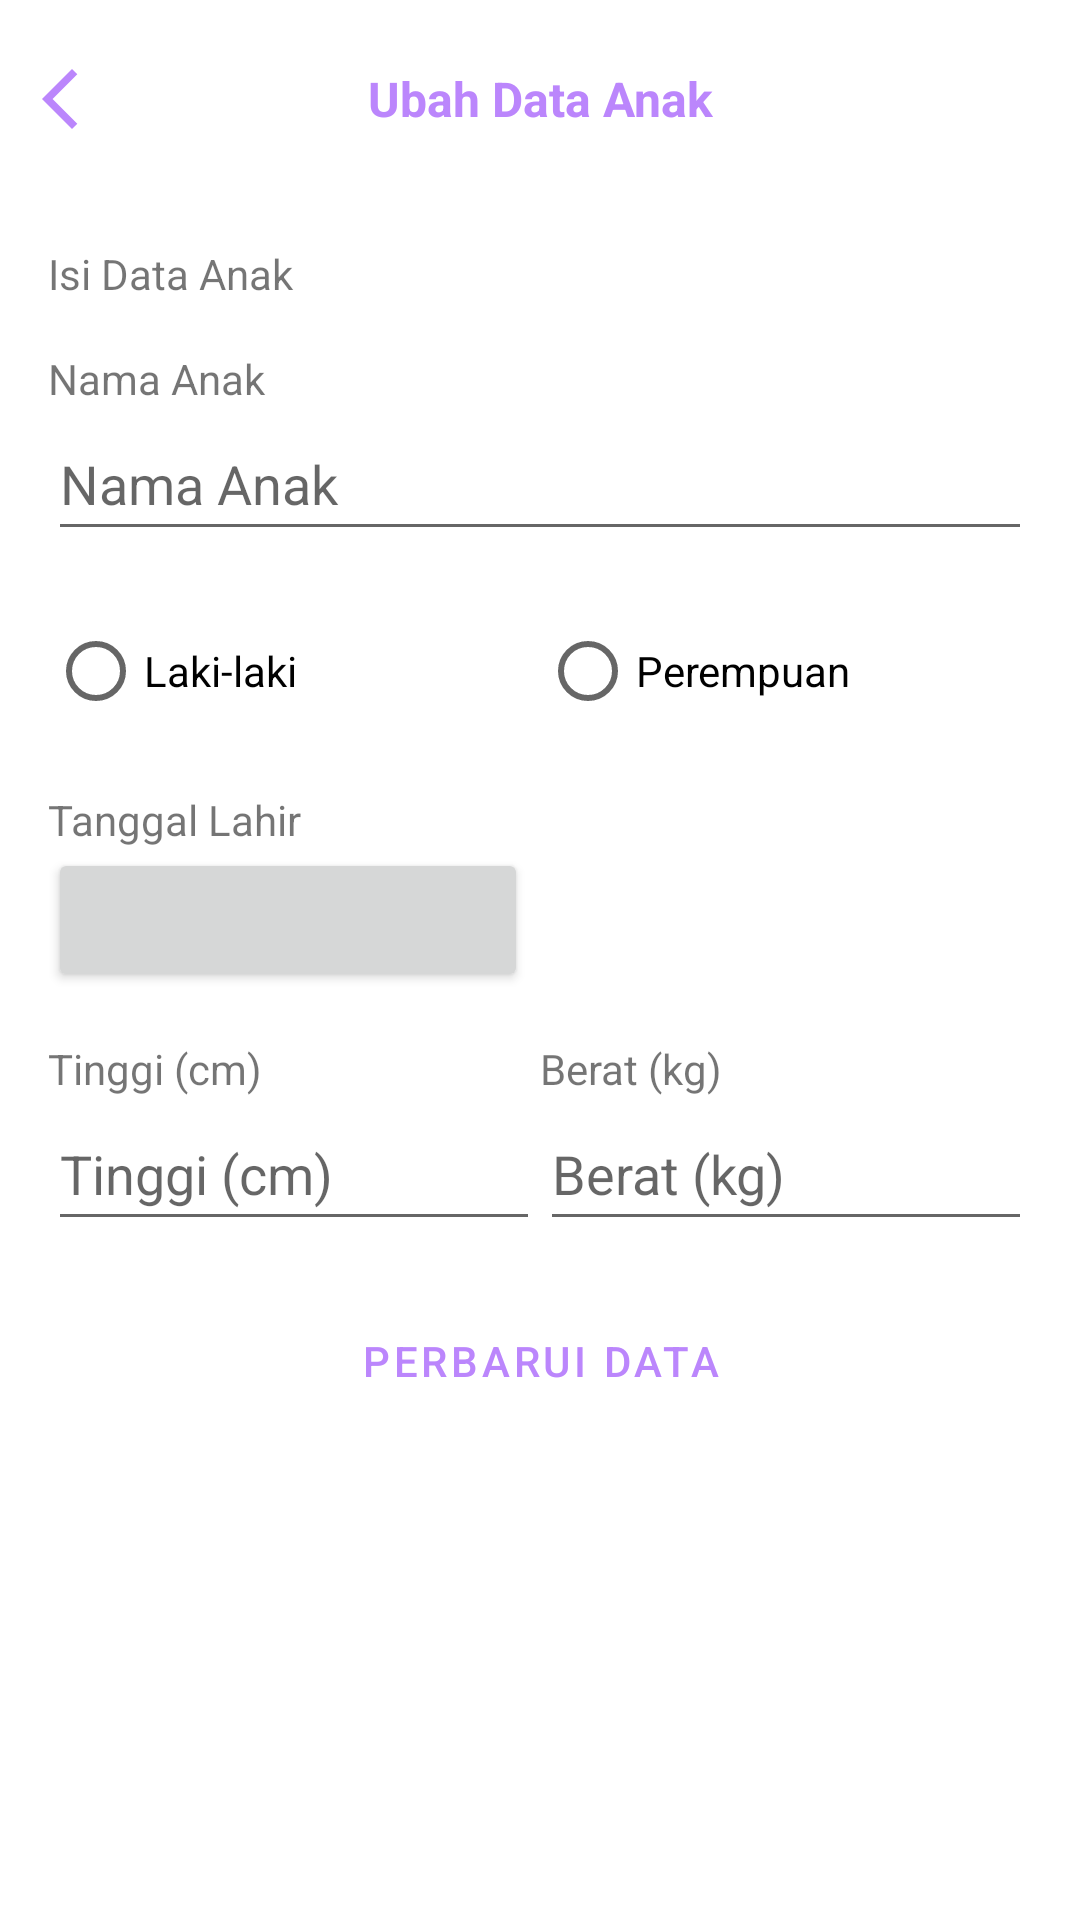

Point at icon controls on the screen. Image size 1080 x 1920, points as point (x, y).
back: point (59, 99)
